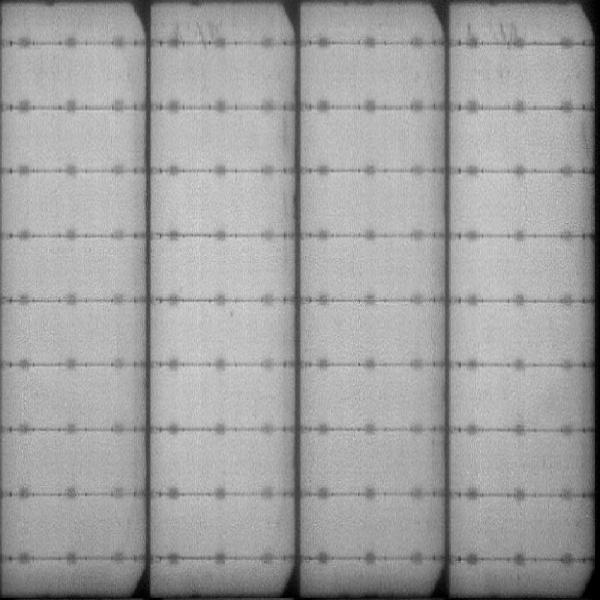scratch: (467, 19, 529, 43), (170, 18, 230, 40)
